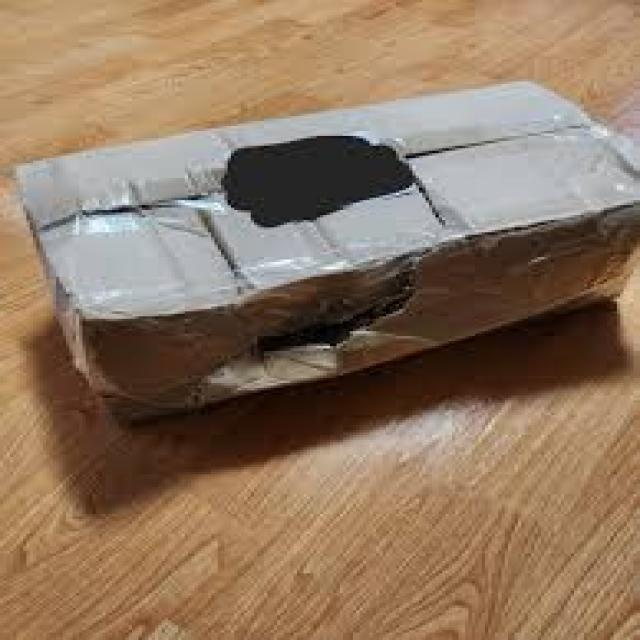box: (12, 81, 640, 431)
crushed: (62, 239, 495, 427)
tear: (242, 256, 423, 365)
